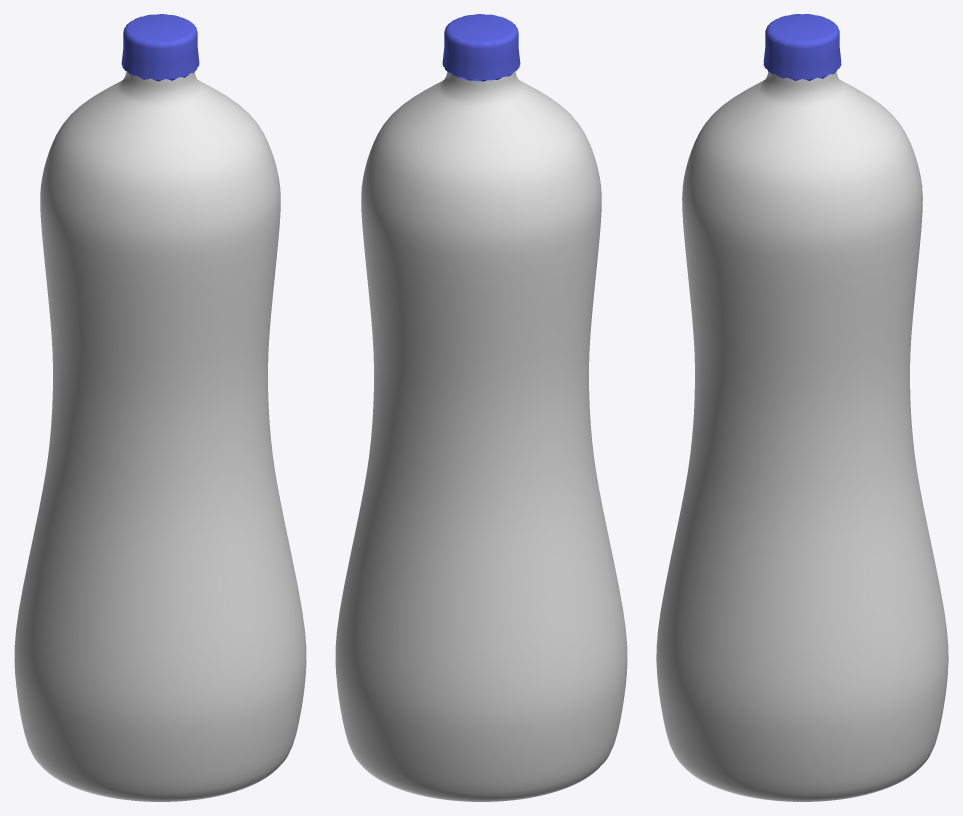
File: BotellaAceite.fbx
3 views of the same model, side by side, from view 1: azimuth 30°, elevation 25°; view 2: azimuth 150°, elevation 25°; view 3: azimuth 270°, elevation 25° (orthographic).
Parts seen in each view (by area): view 1: Circle, Circle.002; view 2: Circle, Circle.002; view 3: Circle, Circle.002.
Boxes of the visible parts, bbox=[...] form: Circle: bbox=[14, 71, 306, 801]; Circle.002: bbox=[121, 14, 199, 81]; Circle: bbox=[335, 71, 627, 801]; Circle.002: bbox=[442, 14, 520, 81]; Circle: bbox=[656, 71, 948, 801]; Circle.002: bbox=[763, 14, 841, 80].
Size of the model in its own units: 162 by 443 by 162.
